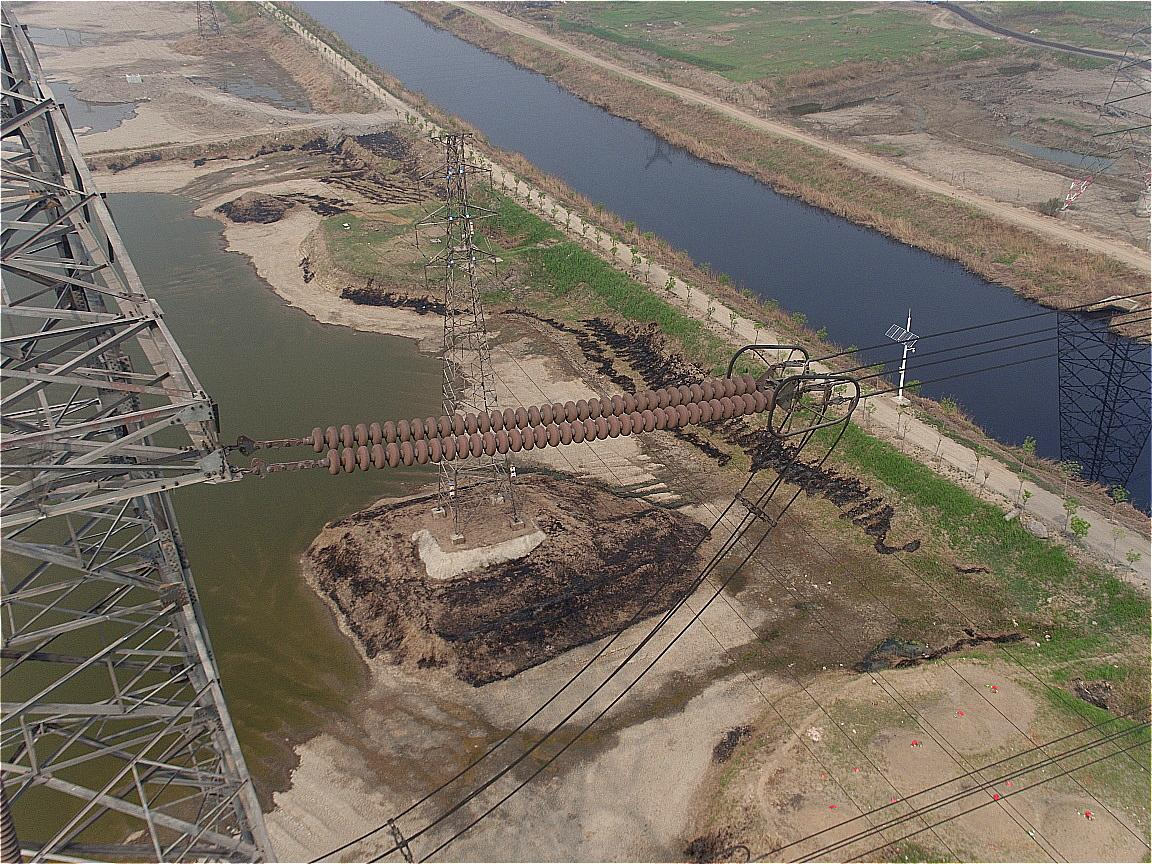insultor1: (306, 371, 790, 482)
